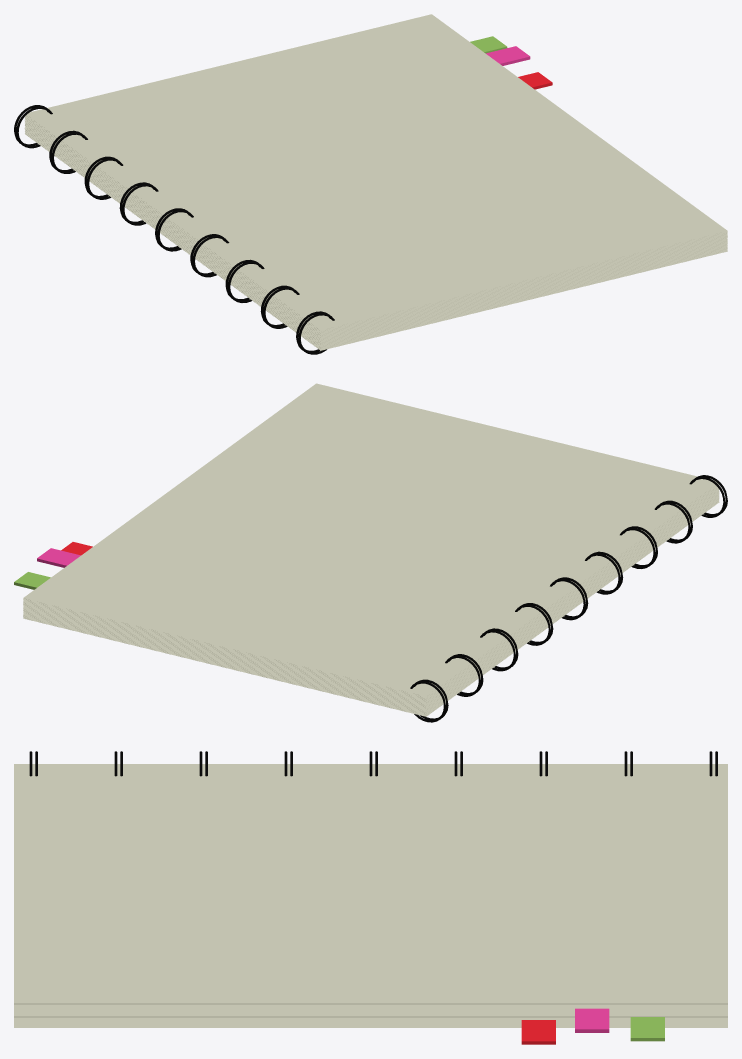
The model's file is newnotebook.fbx.
3 renders of one model, top to bottom at view 1: azimuth 30°, elevation 25°; view 2: azimuth 150°, elevation 25°; view 3: azimuth 270°, elevation 25°, orthographic. The views are drawn at different scales.
Visible parts, largest first — view 1: notebook; view 2: notebook; view 3: notebook, sticker 3, sticker 1, sticker 2.
Part boxes in pixels (<box>): notebook: <box>14,14,727,354</box>; notebook: <box>23,383,727,722</box>; notebook: <box>14,751,727,1027</box>; sticker 3: <box>521,1020,555,1044</box>; sticker 1: <box>630,1017,664,1041</box>; sticker 2: <box>575,1008,609,1032</box>.
Size of the model in its own units: 225 by 18.98 by 252.
